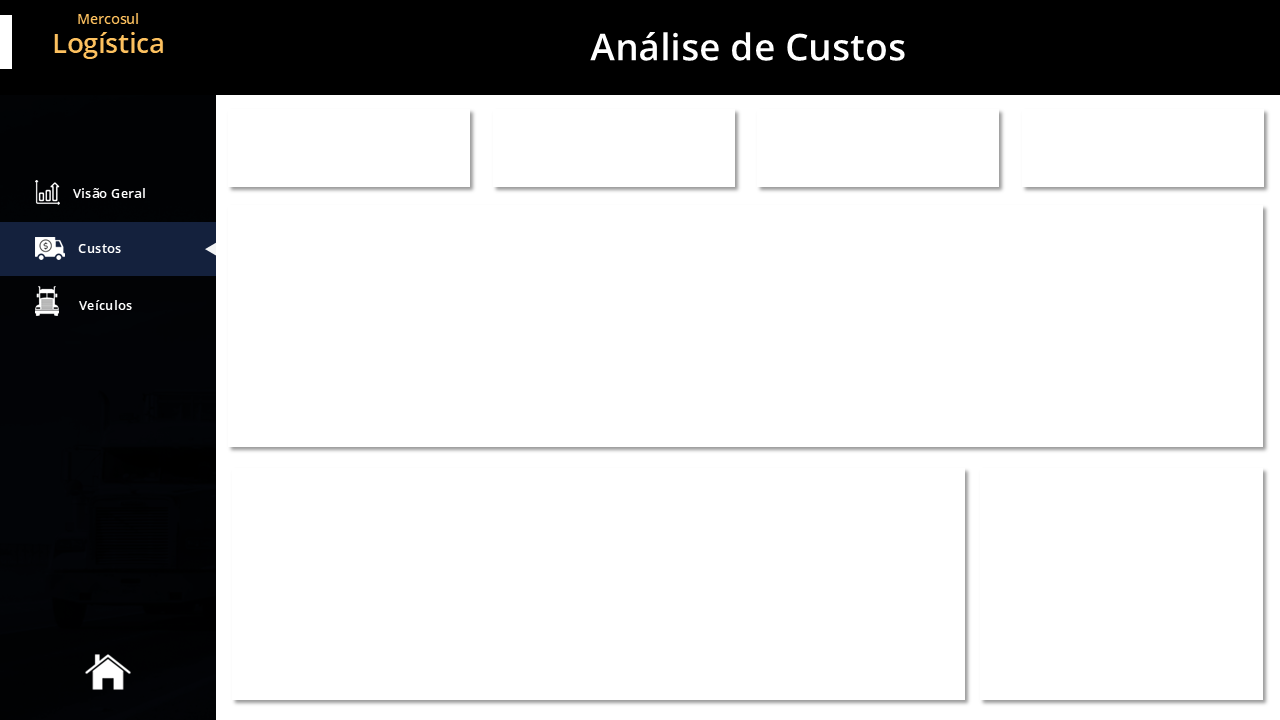

The dashboard page shown, as its layout file describes it:
{"tool":"powerbi","page":{"name":"Custo com Frota","canvas":[1280,720],"ordinal":2},"visuals":[{"type":"multiRowCard","fields":{"Values":["_Medidas.Custo Total"]},"box":[236.5,112.7,231,71.5],"z":0},{"type":"multiRowCard","fields":{"Values":["_Medidas.Custo Total por Km"]},"box":[503.2,112.7,225.5,71.5],"z":1000},{"type":"multiRowCard","fields":{"Values":["_Medidas.Custo por Ton"]},"box":[760.3,112.7,240.6,71.5],"z":2000},{"type":"multiRowCard","fields":{"Values":["_Medidas.Veiculos Usados"]},"box":[1024.3,112.7,240.6,71.5],"z":3000},{"type":"areaChart","fields":{"Category":["Calendario.Data.Variation.Hierarquia de datas.Ano","Calendario.Data.Variation.Hierarquia de datas.Mês","Calendario.Data.Variation.Hierarquia de datas.Dia"],"Y":["_Medidas.Custo Fixo","_Medidas.Custo Variável"]},"box":[236.5,204.9,1028.4,244.7],"z":4000},{"type":"barChart","fields":{"Y":["_Medidas.Custo Diaria"],"Category":["dVeiculo.Marca"]},"box":[983,468.8,283.2,229.6],"z":5000},{"type":"lineChart","fields":{"Y":["_Medidas.Custo Total por Km"],"Category":["Calendario.Data.Variation.Hierarquia de datas.Ano","Calendario.Data.Variation.Hierarquia de datas.Mês","Calendario.Data.Variation.Hierarquia de datas.Dia"],"Series":["dVeiculo.Tipo Veículo"]},"box":[236.5,468.8,727.3,220],"z":6000},{"type":"slicer","fields":{"Values":["Calendario.Ano"]},"box":[1106.8,15.1,158.1,71.5],"z":7000},{"type":"actionButton","box":[82.1,646.3,50.7,50.7],"z":8000},{"type":"actionButton","box":[0,165.5,217.4,55.6],"z":9000},{"type":"actionButton","box":[0,276.6,217.4,55.6],"z":10000}]}

Visuals, with their boxes on the page's 1280x720 design canvas (x1, y1, x2, y2). These are canvas units, not pixel positions in the 1280x720 screenshot, which may show the page scaled, cropped or inside an application window:
multiRowCard - _Medidas.Custo Total: [left=236, top=113, right=468, bottom=184]
multiRowCard - _Medidas.Custo Total por Km: [left=503, top=113, right=729, bottom=184]
multiRowCard - _Medidas.Custo por Ton: [left=760, top=113, right=1001, bottom=184]
multiRowCard - _Medidas.Veiculos Usados: [left=1024, top=113, right=1265, bottom=184]
areaChart - Calendario.Data.Variation.Hierarquia de datas.Ano x Calendario.Data.Variation.Hierarquia de datas.Mês: [left=236, top=205, right=1265, bottom=450]
barChart - _Medidas.Custo Diaria x dVeiculo.Marca: [left=983, top=469, right=1266, bottom=698]
lineChart - _Medidas.Custo Total por Km x Calendario.Data.Variation.Hierarquia de datas.Ano: [left=236, top=469, right=964, bottom=689]
slicer - Calendario.Ano: [left=1107, top=15, right=1265, bottom=87]
actionButton: [left=82, top=646, right=133, bottom=697]
actionButton: [left=0, top=166, right=217, bottom=221]
actionButton: [left=0, top=277, right=217, bottom=332]
